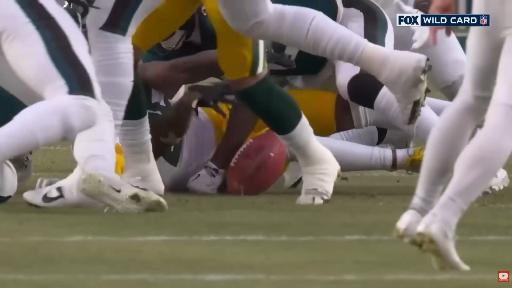Helmet: (155, 106, 215, 190), (158, 18, 192, 53)
Jersey: (143, 7, 216, 62), (268, 43, 328, 76)
Player: (396, 0, 511, 270), (204, 0, 337, 203), (0, 0, 110, 161), (374, 0, 465, 100), (153, 92, 230, 191), (337, 63, 436, 138)
